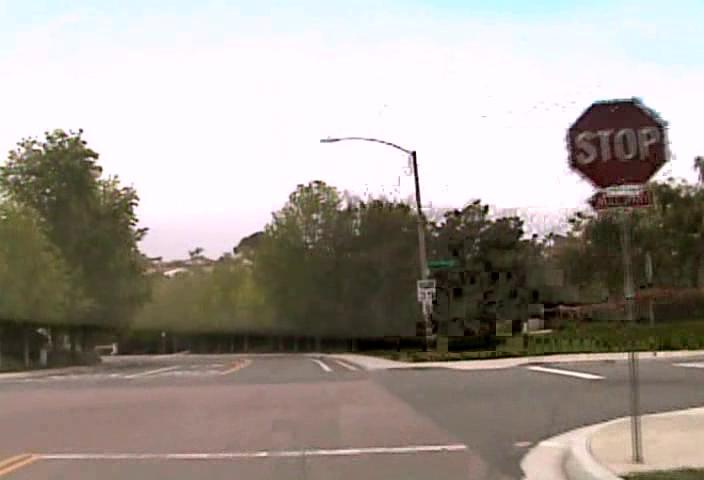stop: (565, 97, 670, 190)
